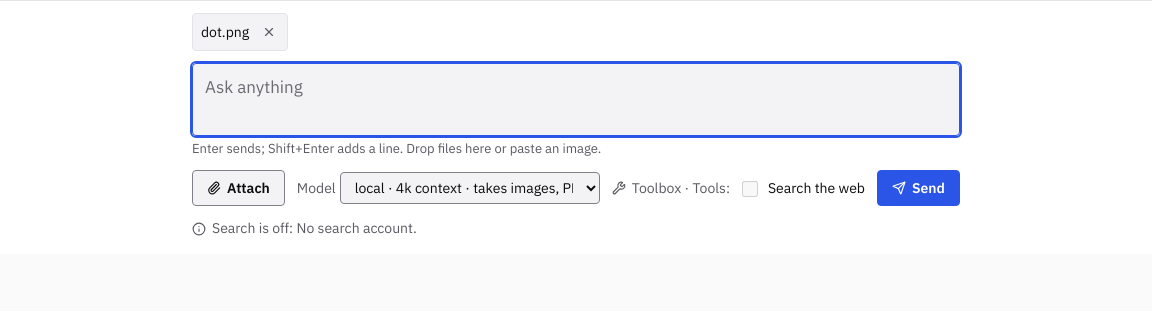
Remove on an attachment not yet sent (workbench#3) › keeps the chip and says why when the delete is refused
Click the button named "Remove dot.png" at [269, 32], box [253,16,285,48]
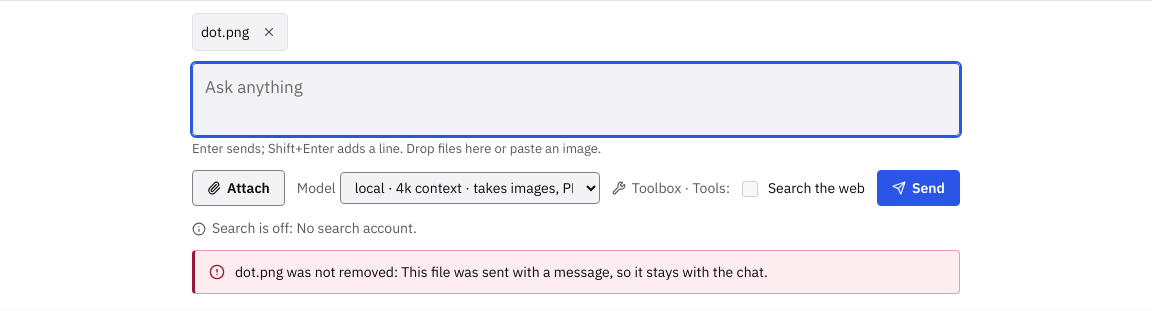
Expected: the message shows "dot.png was not removed: This file was sent with a message, so it stays with the chat.", [235,263,768,281]
